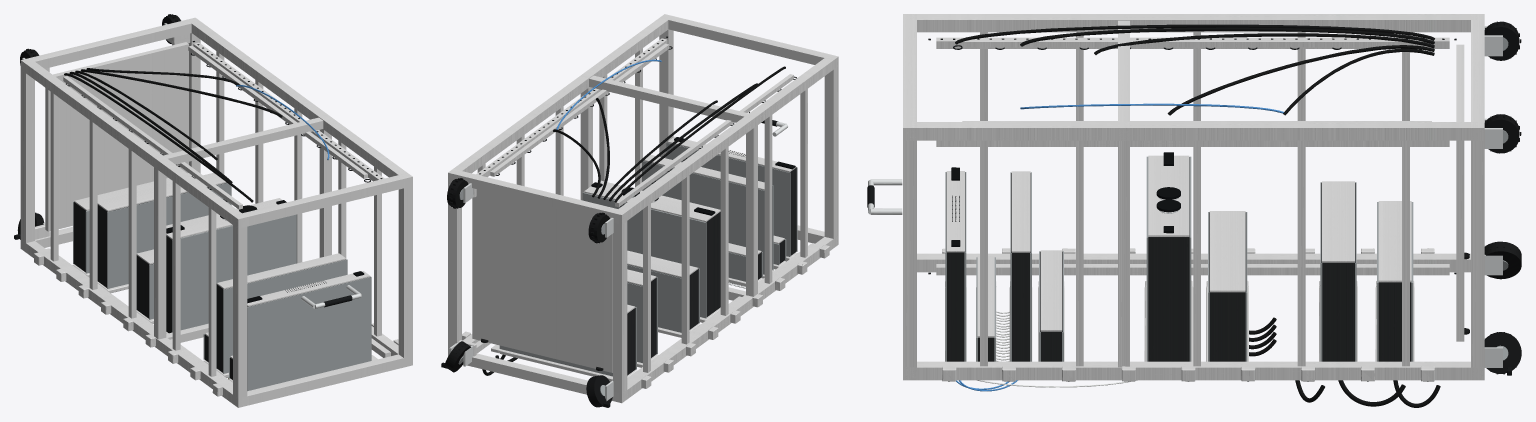
File: unifi-hero-rack.glb
The picture shows the model from 3 angles, left to right: view 1: azimuth 30°, elevation 25°; view 2: azimuth 150°, elevation 25°; view 3: azimuth 270°, elevation 25°; orthographic projection. The views are drawn at different scales.
Parts seen in each view (by area): view 1: RACK_FRAME__silver_brushed, BOTTOM_SHELF__silver_brushed, SIDE_BRACES__silver_brushed, UDM_PRO_MAX__silver_shadow, UNVR_PRO_7__silver_shadow, UPS_COOLING_MODULE__silver_shadow, REAR_POWER_BUNDLE__black_cable, REAR_LACING_BARS__silver_brushed, USW_PRO_24_POE__silver_shadow, MOUNTING_RAILS__silver_brushed, SIDE_EAR_BRACKETS__silver_brushed, UPS_COOLING_MODULE__silver_brushed (+12 smaller); view 2: RACK_FRAME__silver_brushed, BOTTOM_SHELF__silver_brushed, SIDE_BRACES__silver_brushed, UNVR_PRO_7__silver_shadow, USW_PRO_24_POE__silver_shadow, REAR_LACING_BARS__silver_brushed, UDM_PRO_MAX__silver_shadow, REAR_POWER_BUNDLE__black_cable, MOUNTING_RAILS__silver_brushed, CASTERS__rubber, SMARTPOWER_MATRIX__silver_shadow, UNVR_PRO_7__steel_textured (+14 smaller); view 3: RACK_FRAME__silver_brushed, SIDE_BRACES__silver_brushed, MOUNTING_RAILS__silver_brushed, REAR_POWER_BUNDLE__black_cable, UNVR_PRO_7__steel_textured, REAR_LACING_BARS__silver_brushed, UPS_COOLING_MODULE__steel_textured, SMARTPOWER_MATRIX__silver_brushed, UNVR_PRO_7__silver_brushed, CASTERS__rubber, UPS_COOLING_MODULE__silver_brushed, SMARTPOWER_MATRIX__steel_textured (+21 smaller).
Part boxes in pixels (box(x1,y1,x2,y2)): RACK_FRAME__silver_brushed: box(20, 17, 412, 407); BOTTOM_SHELF__silver_brushed: box(45, 42, 188, 231); SIDE_BRACES__silver_brushed: box(50, 51, 381, 376); UDM_PRO_MAX__silver_shadow: box(247, 277, 371, 390); UNVR_PRO_7__silver_shadow: box(172, 214, 296, 332); UPS_COOLING_MODULE__silver_shadow: box(107, 183, 231, 288); REAR_POWER_BUNDLE__black_cable: box(64, 68, 282, 202); REAR_LACING_BARS__silver_brushed: box(63, 45, 367, 209); USW_PRO_24_POE__silver_shadow: box(216, 259, 347, 373); MOUNTING_RAILS__silver_brushed: box(46, 42, 390, 385); SIDE_EAR_BRACKETS__silver_brushed: box(34, 252, 398, 396); UPS_COOLING_MODULE__silver_brushed: box(97, 172, 226, 293); RACK_FRAME__silver_brushed: box(448, 14, 838, 403); BOTTOM_SHELF__silver_brushed: box(472, 189, 612, 372); SIDE_BRACES__silver_brushed: box(477, 48, 807, 372); UNVR_PRO_7__silver_shadow: box(582, 192, 706, 318); USW_PRO_24_POE__silver_shadow: box(642, 161, 773, 274); REAR_LACING_BARS__silver_brushed: box(490, 43, 793, 207); UDM_PRO_MAX__silver_shadow: box(666, 142, 797, 260); REAR_POWER_BUNDLE__black_cable: box(553, 66, 785, 202); MOUNTING_RAILS__silver_brushed: box(475, 38, 813, 380); CASTERS__rubber: box(445, 179, 612, 407); SMARTPOWER_MATRIX__silver_shadow: box(627, 265, 699, 332); UNVR_PRO_7__steel_textured: box(706, 212, 720, 316); RACK_FRAME__silver_brushed: box(903, 14, 1484, 380); SIDE_BRACES__silver_brushed: box(980, 32, 1409, 366); MOUNTING_RAILS__silver_brushed: box(936, 37, 1449, 275); REAR_POWER_BUNDLE__black_cable: box(955, 24, 1434, 115); UNVR_PRO_7__steel_textured: box(1148, 157, 1189, 361); REAR_LACING_BARS__silver_brushed: box(962, 39, 1431, 121); UPS_COOLING_MODULE__steel_textured: box(1321, 182, 1355, 361); SMARTPOWER_MATRIX__silver_brushed: box(1206, 211, 1248, 361); UNVR_PRO_7__silver_brushed: box(1144, 155, 1193, 361); CASTERS__rubber: box(1484, 21, 1521, 373); UPS_COOLING_MODULE__silver_brushed: box(1319, 181, 1357, 361); SMARTPOWER_MATRIX__steel_textured: box(1209, 212, 1246, 361).
Size of what is drawn, in the model's own units: 0.6621 by 0.755 by 1.5.
Materials: 23 (4 with a texture image).
